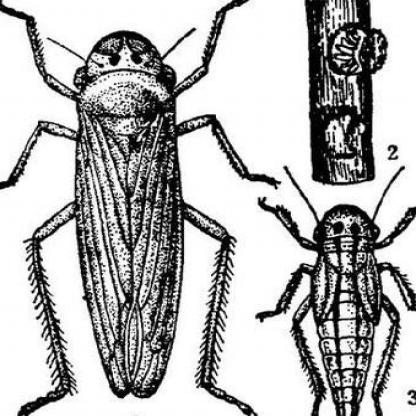Green-Leafhopper: (0, 4, 292, 416), (245, 172, 416, 416)
